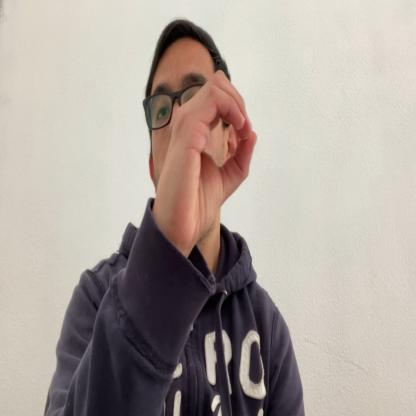O: (162, 70, 258, 239)
